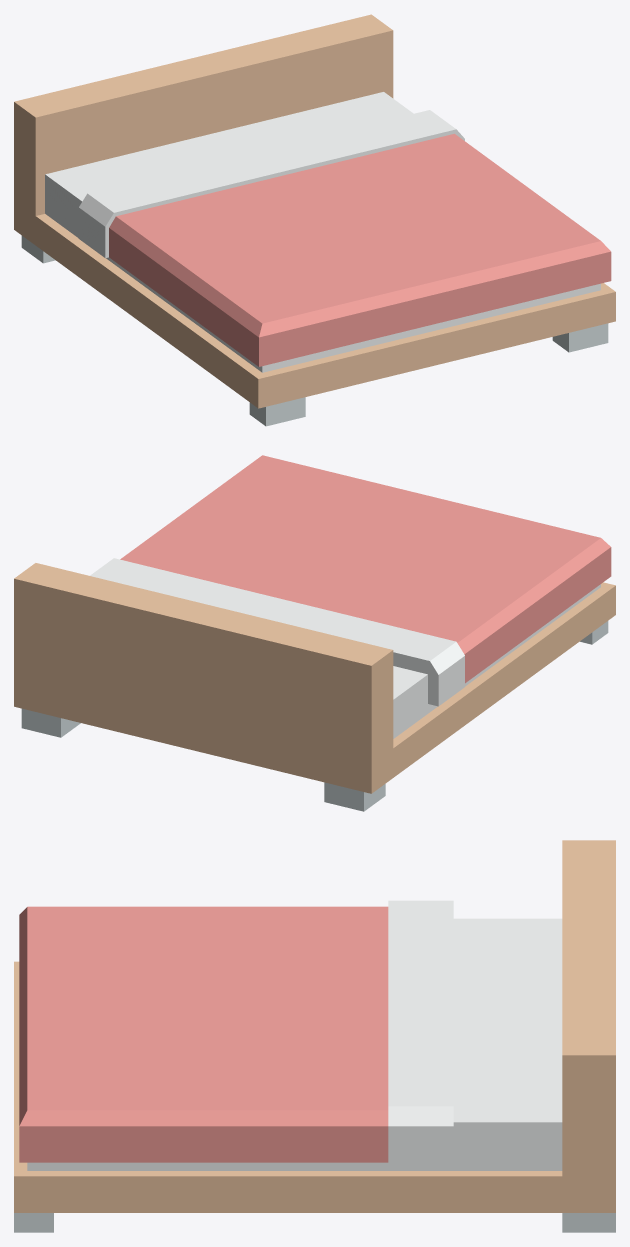
Rendered from bedDouble.glb.
The picture shows the model from 3 angles, top to bottom: view 1: azimuth 30°, elevation 25°; view 2: azimuth 150°, elevation 25°; view 3: azimuth 270°, elevation 25°; orthographic projection. The views are drawn at different scales.
Visible parts, largest first — view 1: cover, bedDouble(Clone); view 2: bedDouble(Clone), cover; view 3: cover, bedDouble(Clone).
Part boxes in pixels (x1,y1,x2,y2): cover: (78,110,611,366); bedDouble(Clone): (14,14,615,426); bedDouble(Clone): (14,563,615,811); cover: (90,455,611,706); cover: (19,900,453,1164); bedDouble(Clone): (14,840,615,1232).
Size of the model in its own units: 0.956 by 0.375 by 1.12.
